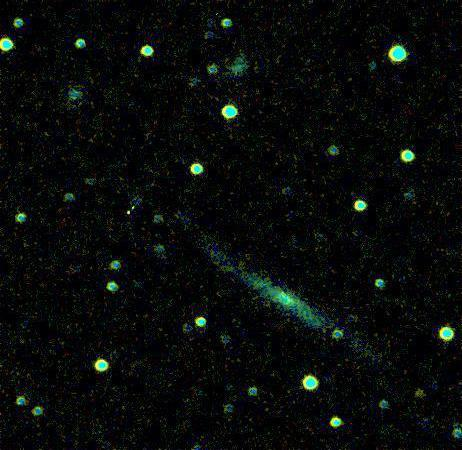star: (405, 377, 435, 407)
